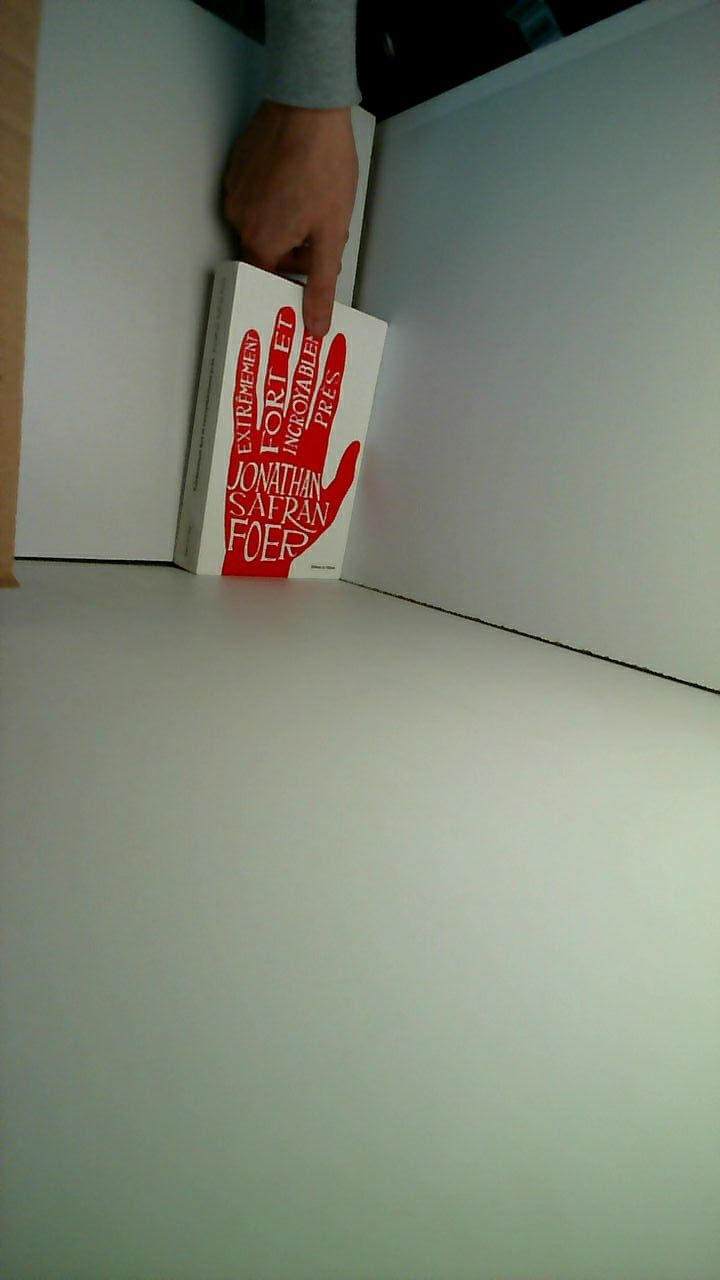book: (158, 245, 409, 606)
